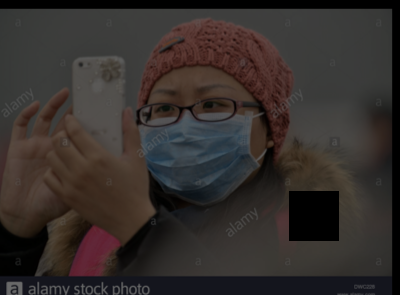with_mask: (135, 80, 263, 207)
